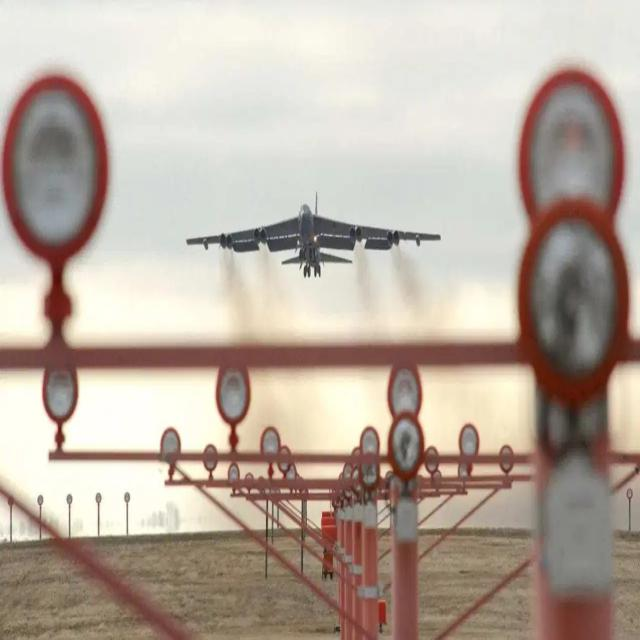MIL_Plane: (89, 191, 153, 278)
